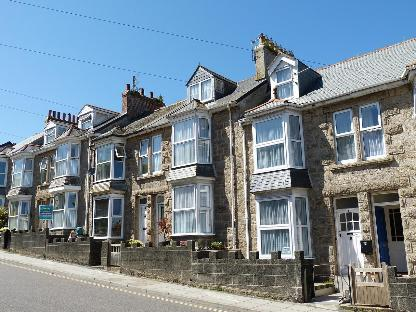door: (368, 184, 412, 276), (329, 191, 364, 282)
